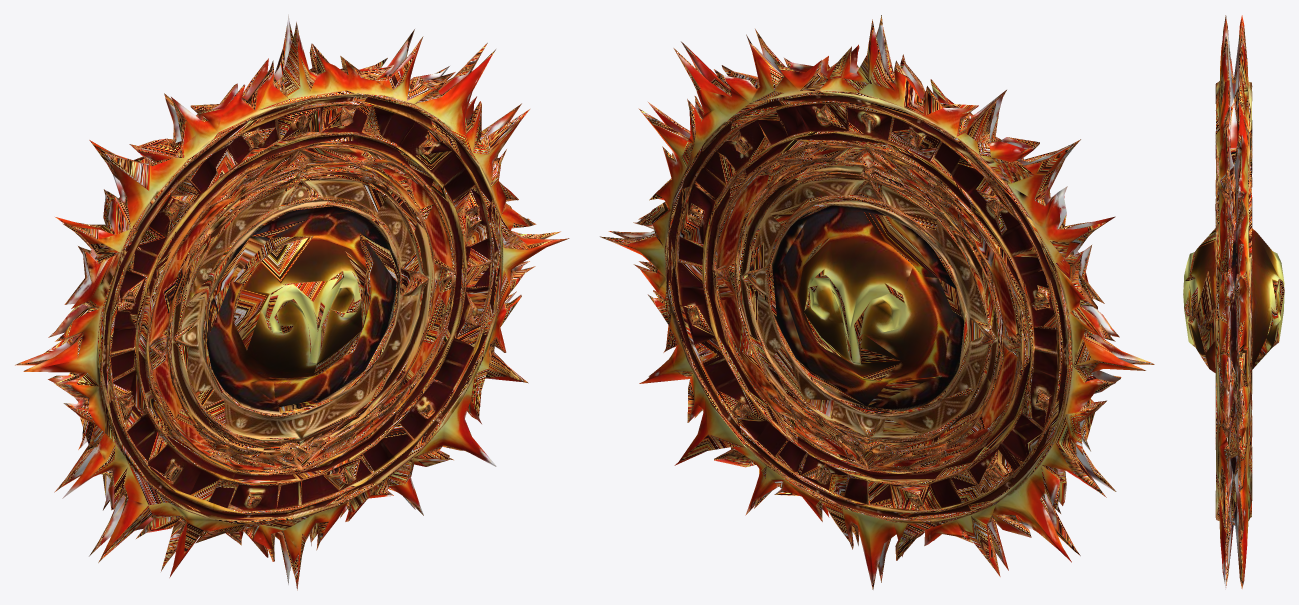
File: aries-halo-high.glb
The picture shows the model from 3 angles, left to right: view 1: azimuth 30°, elevation 25°; view 2: azimuth 150°, elevation 25°; view 3: azimuth 270°, elevation 25°; orthographic projection. The views are drawn at different scales.
Visible parts, largest first — view 1: node_0; view 2: node_0; view 3: node_0.
Boxes of the visible parts, box(x1,y1,x2,y2) form: node_0: box(15, 14, 569, 590); node_0: box(600, 15, 1154, 589); node_0: box(1183, 15, 1284, 589).
Size of the model in its own units: 1.16 by 1.16 by 0.1976.
Materials: 1 (1 with a texture image).
